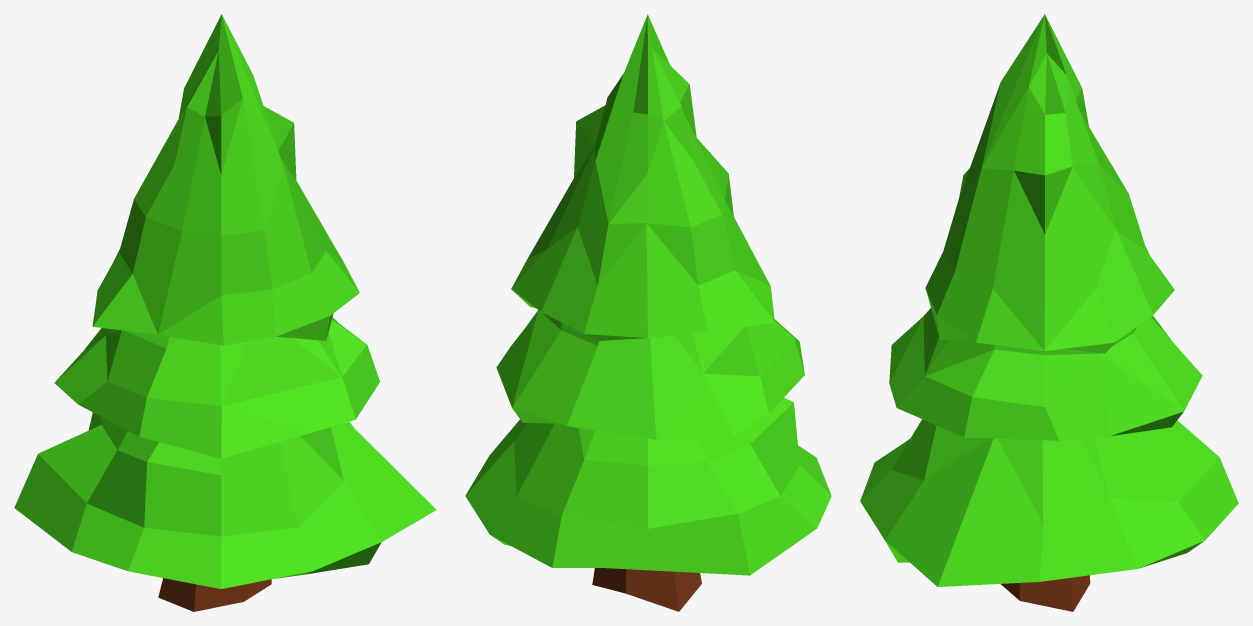
The model's file is Tree2.fbx.
3 renders of one model, left to right at view 1: azimuth 30°, elevation 25°; view 2: azimuth 150°, elevation 25°; view 3: azimuth 270°, elevation 25°, orthographic.
Parts seen in each view (by area): view 1: Tree2; view 2: Tree2; view 3: Tree2.
Boxes of the visible parts, bbox=[...] form: Tree2: bbox=[14, 14, 436, 611]; Tree2: bbox=[465, 14, 831, 611]; Tree2: bbox=[860, 14, 1238, 611].
Bounding box in the file's own units: 182 × 314 × 185.
